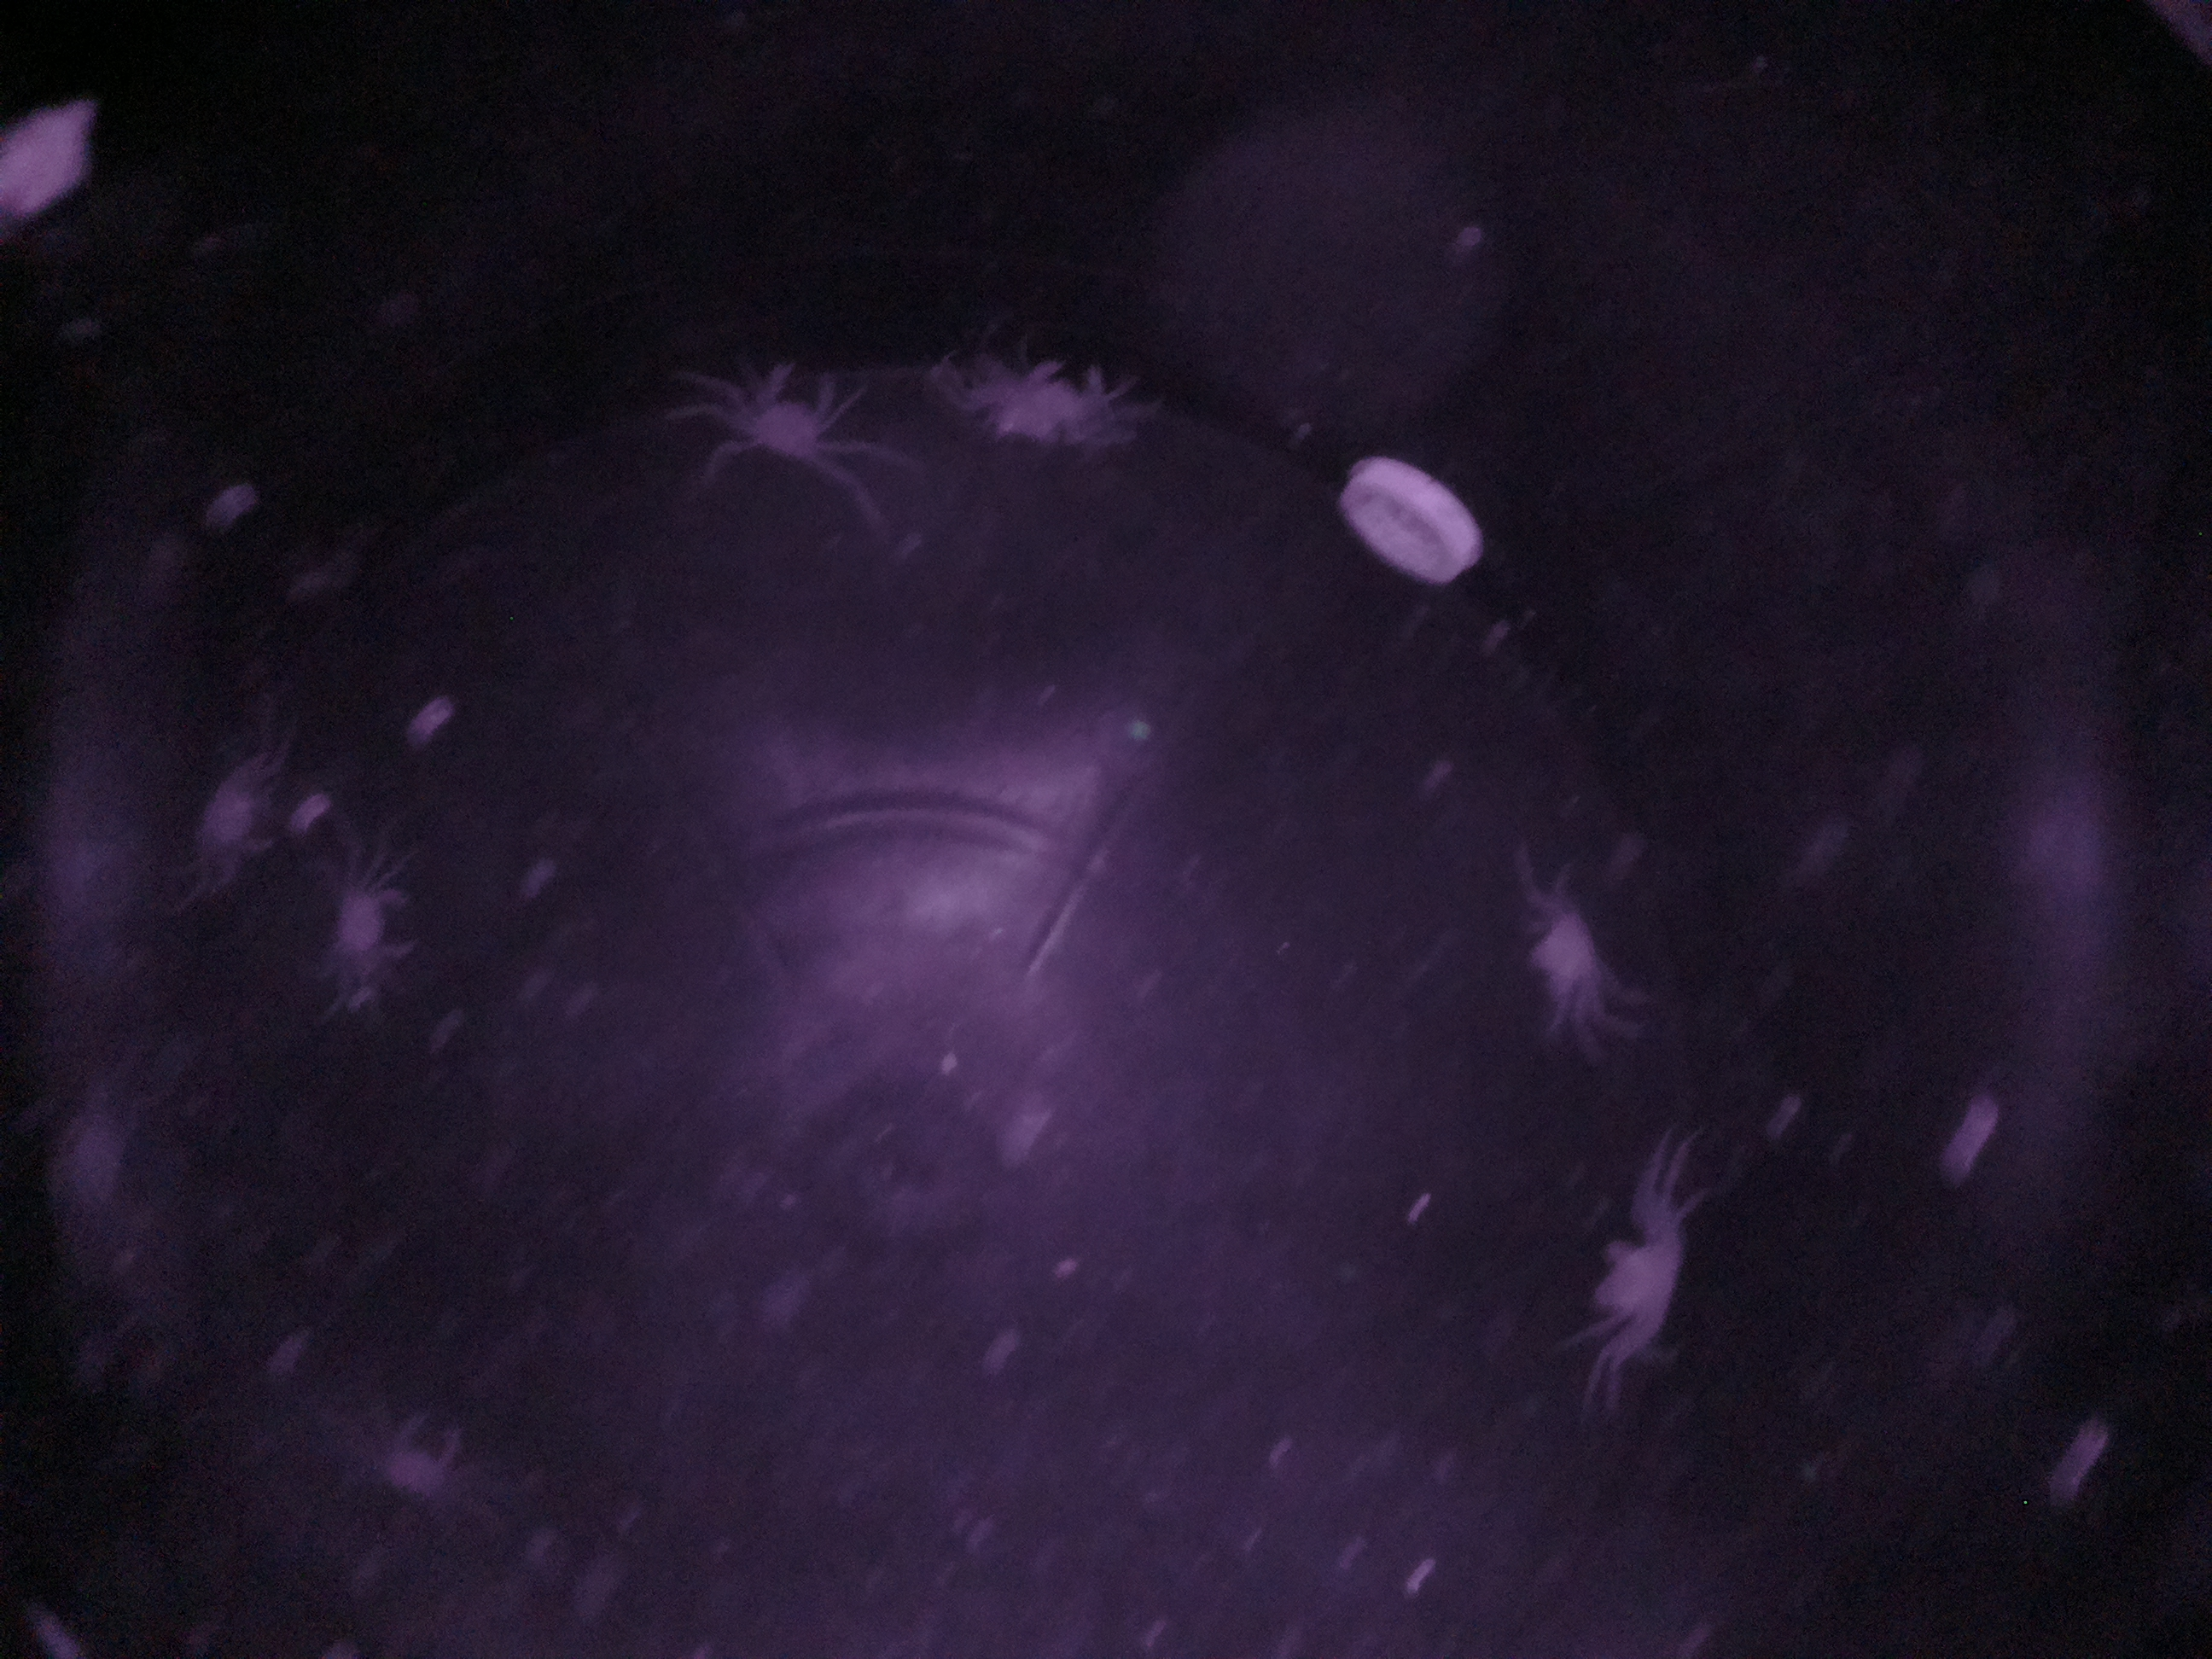Crab: (749, 328, 853, 495)
